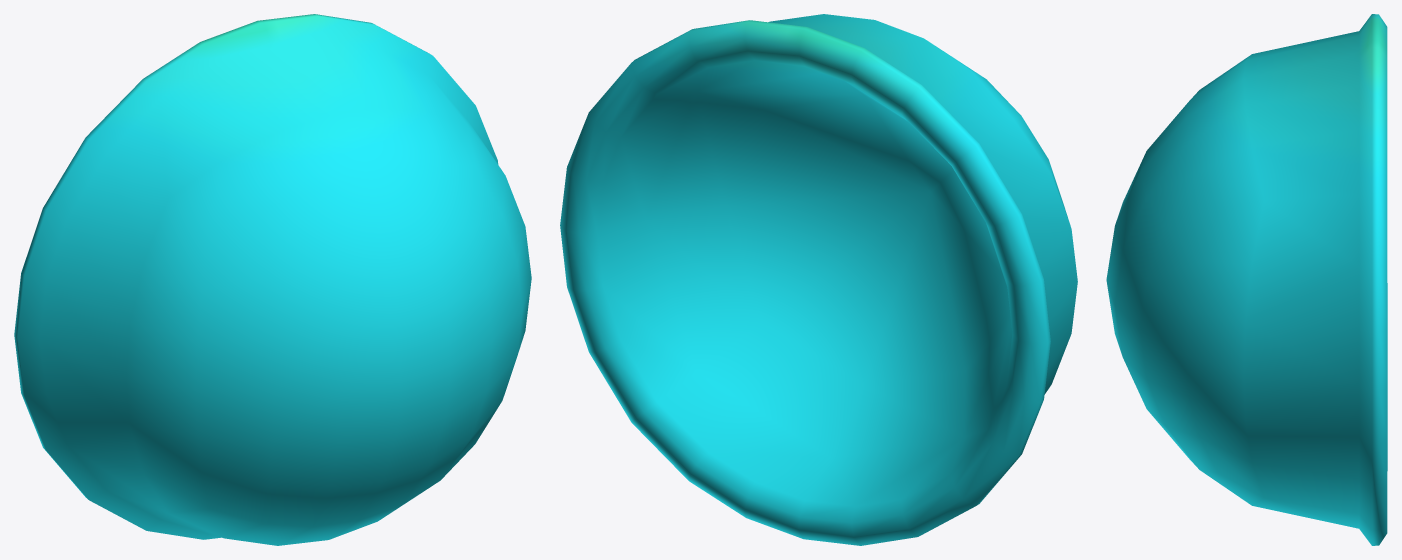
File: Amongus02_Cut_014_0.FBX
3 renders of one model, left to right at view 1: azimuth 30°, elevation 25°; view 2: azimuth 150°, elevation 25°; view 3: azimuth 270°, elevation 25°, orthographic. The views are drawn at different scales.
Parts seen in each view (by area): view 1: Amongus02_Cut_014_0; view 2: Amongus02_Cut_014_0; view 3: Amongus02_Cut_014_0.
Part boxes in pixels (x1,y1,x2,y2): Amongus02_Cut_014_0: (14,14,531,545); Amongus02_Cut_014_0: (560,14,1077,545); Amongus02_Cut_014_0: (1106,14,1387,545).
Size of the model in its own units: 0.7584 by 0.4 by 0.7584.
